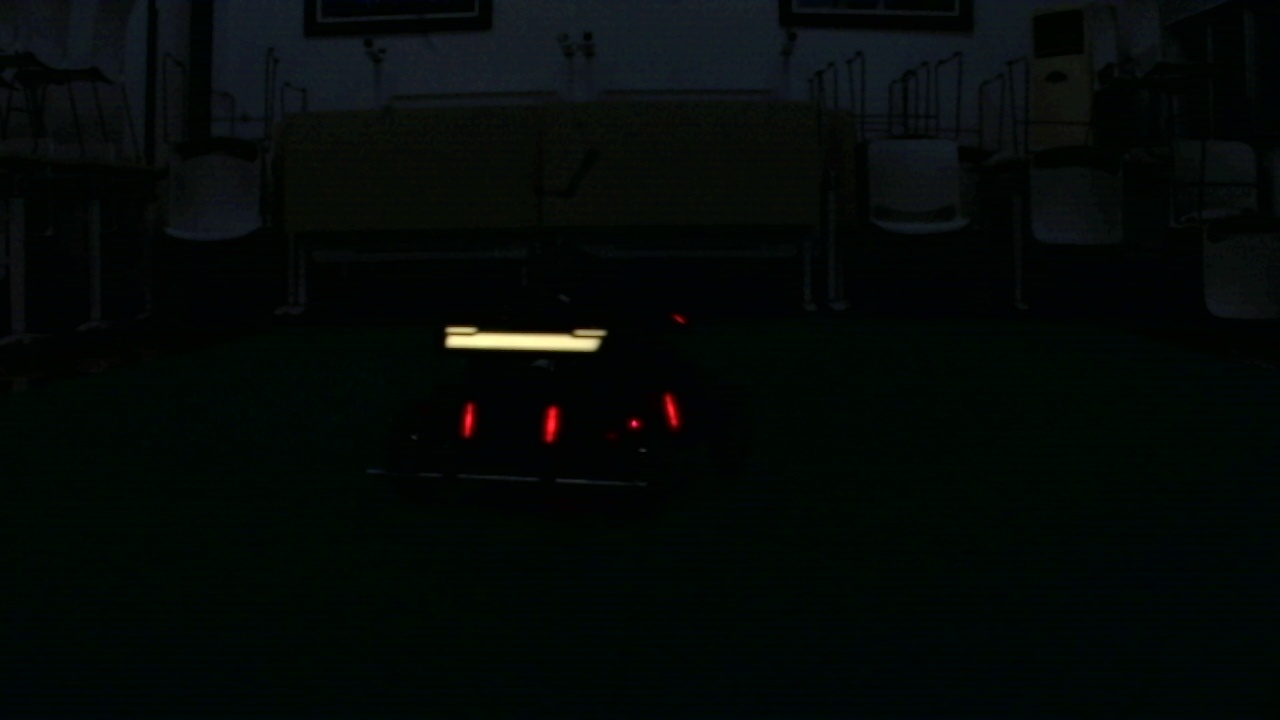lamp: (460, 401, 477, 445), (543, 402, 558, 445), (663, 396, 678, 428)
pair1: (462, 400, 555, 444)
